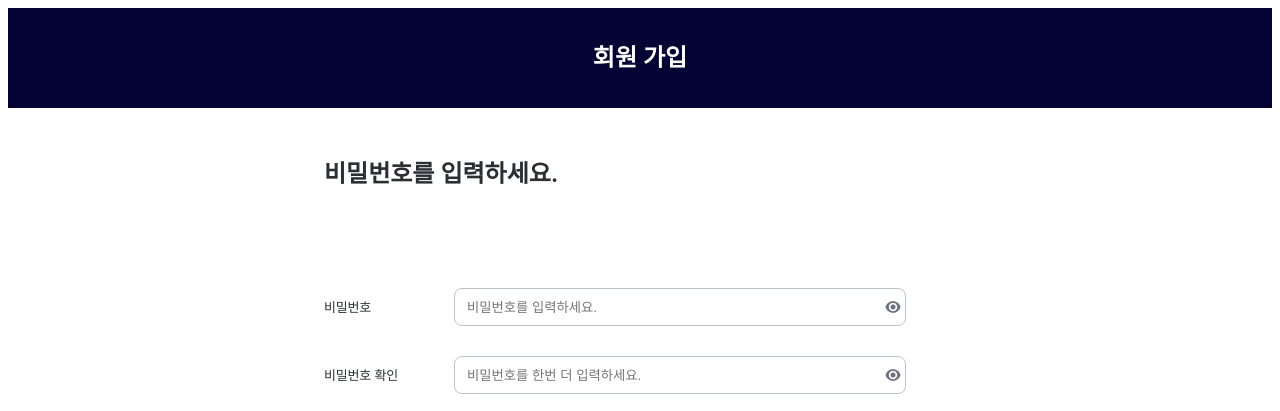
회원가입 5페이지 › 패스워드 입력 › 패스워드 visible 확인
The width and height of the screenshot is (1280, 411).
In the password field with test id "password-input": (664,307) [465,297,863,317], type "qwer1234@"
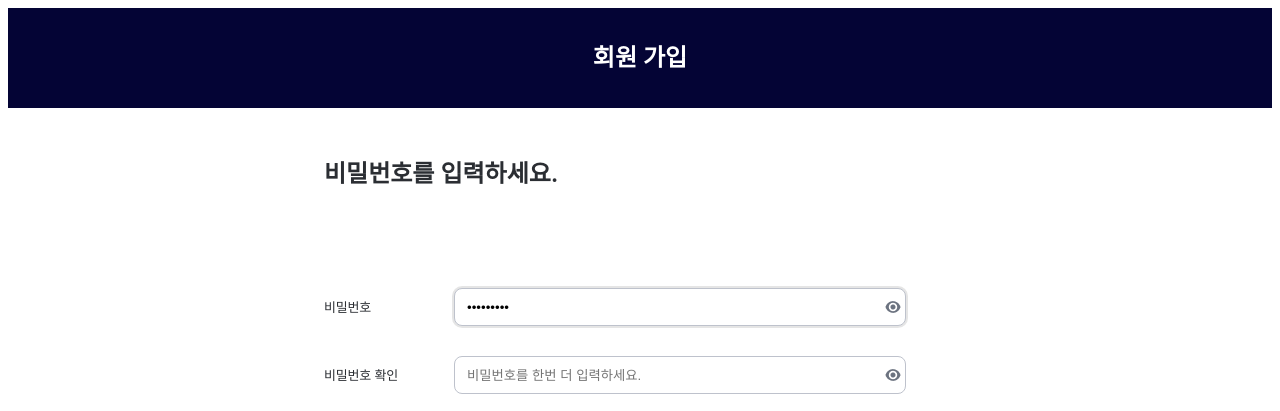
Click the element with test id "password-input-visible": (893,307) [883,297,903,317]
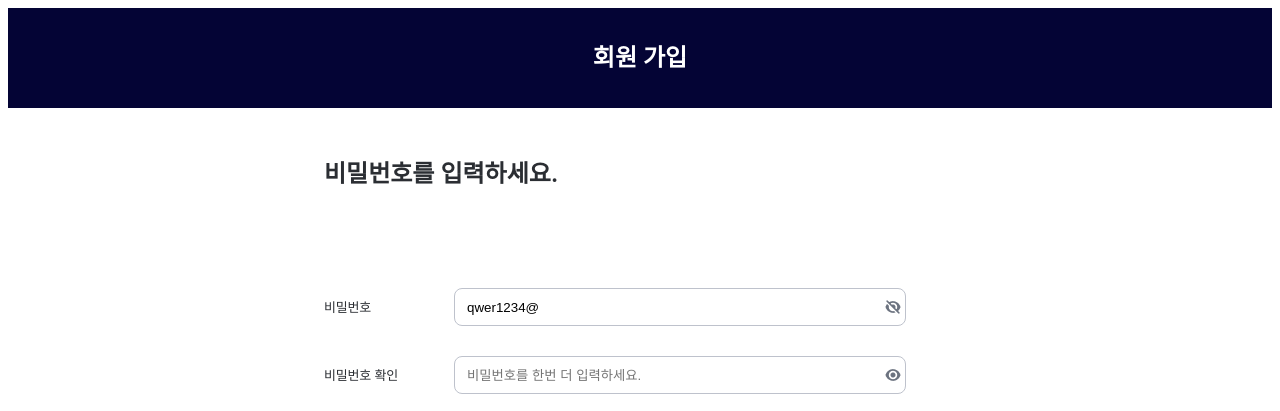
Expected: the field with test id "password-input" shows its text, [465,297,863,317]
Click the element with test id "password-input-visible": (893,307) [883,297,903,317]
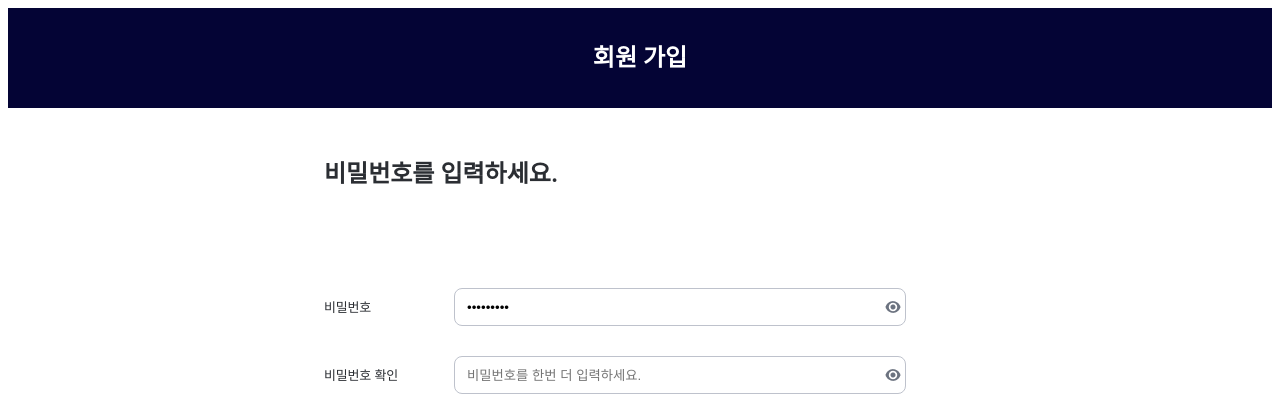
Expected: the password field with test id "password-input" hides its text, [465,297,863,317]
